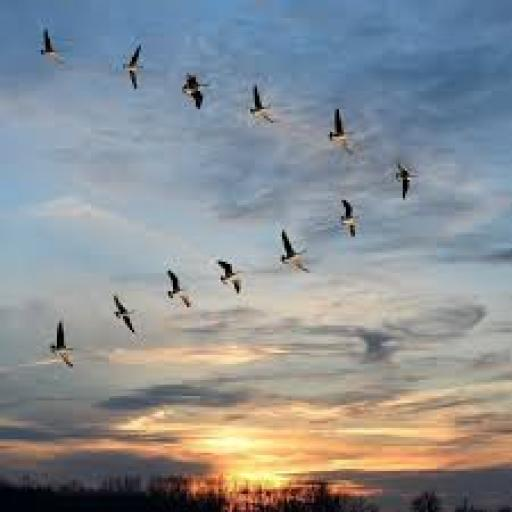birds: (328, 108, 359, 158), (280, 233, 314, 277), (246, 86, 279, 125), (48, 322, 76, 367), (182, 73, 211, 114), (40, 29, 71, 64), (121, 44, 145, 89), (113, 295, 138, 334), (394, 164, 421, 200), (166, 273, 193, 309), (218, 260, 244, 294), (338, 200, 361, 238)
